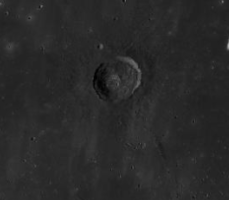crater: (26, 51, 200, 150)
